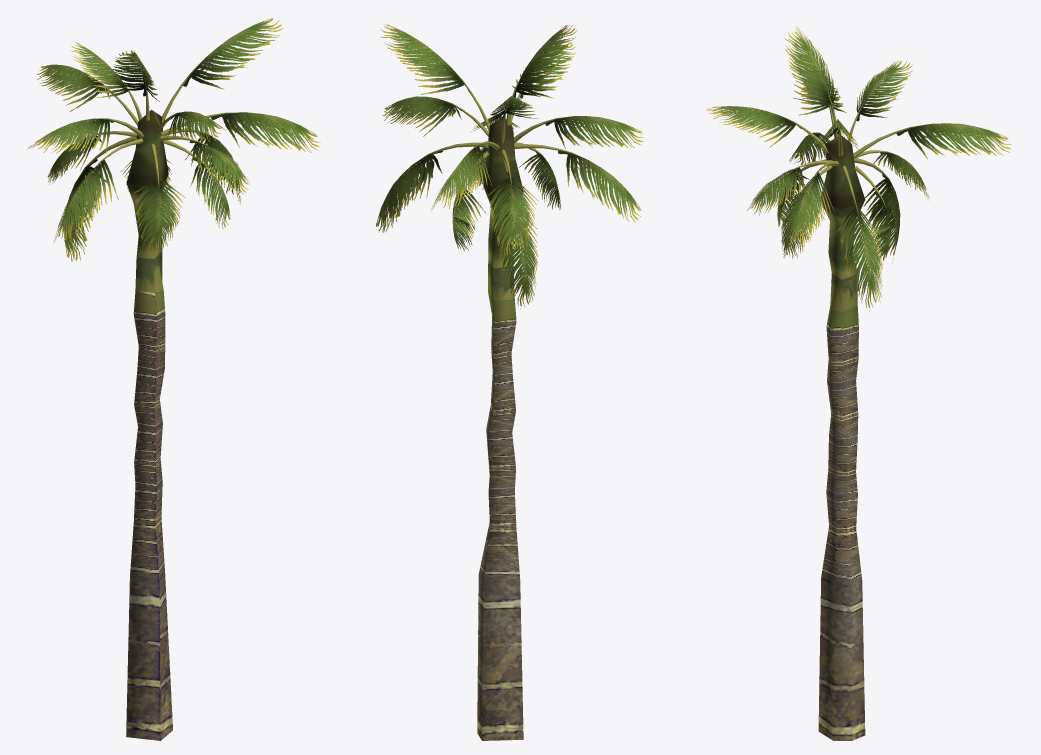
The model's file is tree_roystonea_regia_b.dae.
The picture shows the model from 3 angles, left to right: view 1: azimuth 30°, elevation 25°; view 2: azimuth 150°, elevation 25°; view 3: azimuth 270°, elevation 25°; orthographic projection. The views are drawn at different scales.
Visible parts, largest first — view 1: B; view 2: B; view 3: B.
Boxes of the visible parts, x1=… form: B: x1=28, y1=18, x2=320, y2=740; B: x1=376, y1=24, x2=643, y2=740; B: x1=706, y1=26, x2=1013, y2=740.
Bounding box in the file's own units: 14.43 × 14.41 × 32.72.
